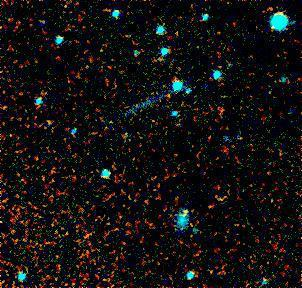star: (172, 196, 202, 226)
